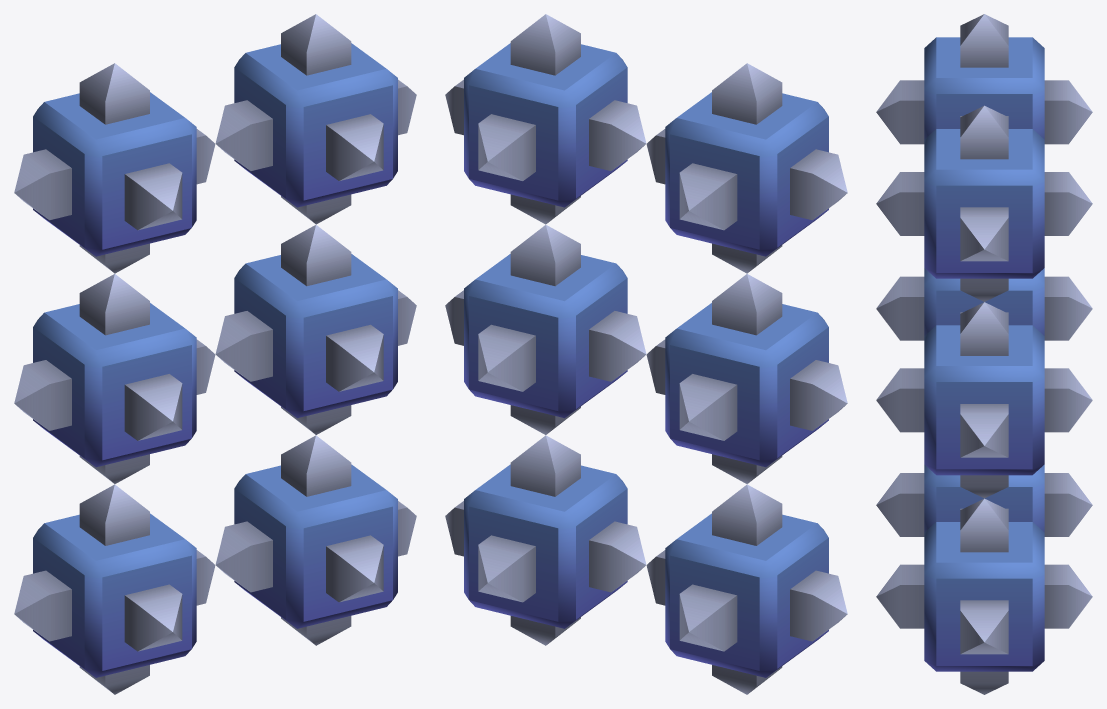
Rendered from obstacle_block_spikes.glb.
The picture shows the model from 3 angles, left to right: view 1: azimuth 30°, elevation 25°; view 2: azimuth 150°, elevation 25°; view 3: azimuth 270°, elevation 25°; orthographic projection. The views are drawn at different scales.
Visible parts, largest first — view 1: spike-block; view 2: spike-block; view 3: spike-block.
Boxes of the visible parts, x1,y1,x2,y2 form: spike-block: (14, 14, 416, 694); spike-block: (445, 14, 847, 694); spike-block: (876, 14, 1092, 694).
Bounding box in the file's own units: 1.6 × 2.4 × 0.7999.
Materials: 1 (1 with a texture image).
